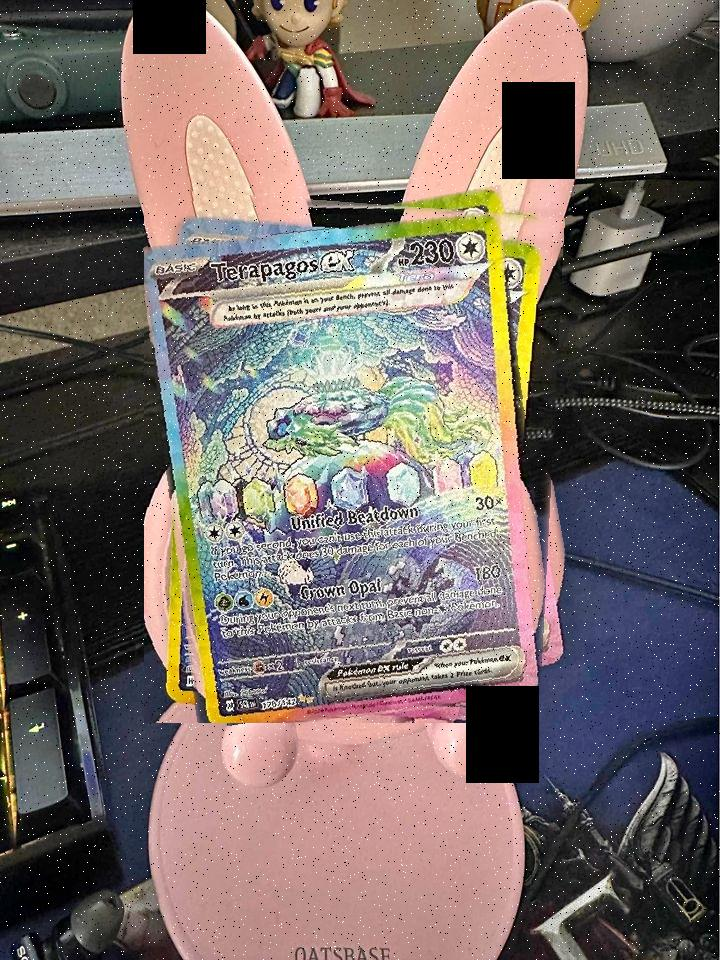card: (144, 213, 541, 723)
